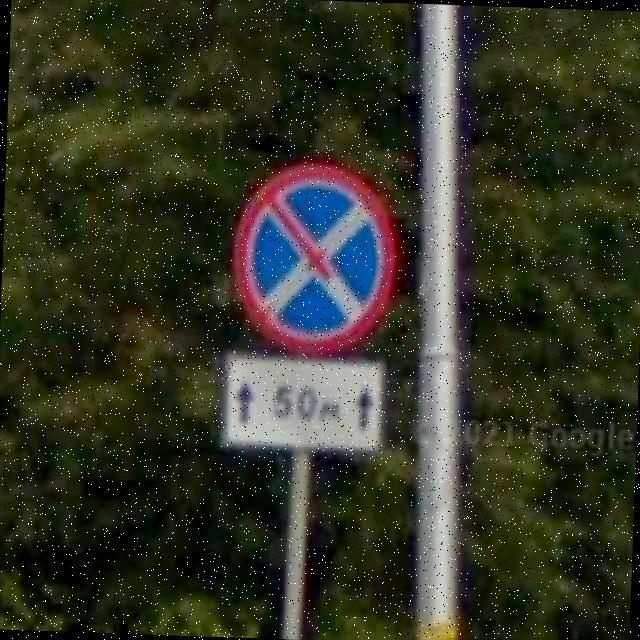Zakaz zatrzymywania sie: (228, 158, 400, 359)
